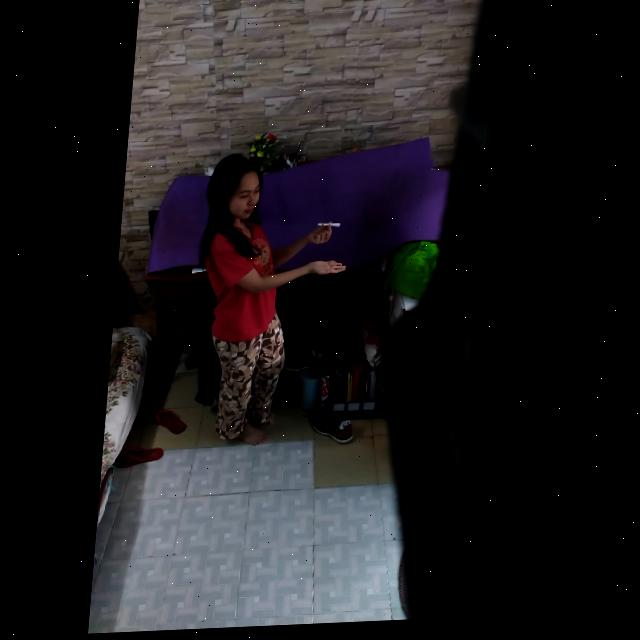cigarette: (321, 225, 344, 230)
